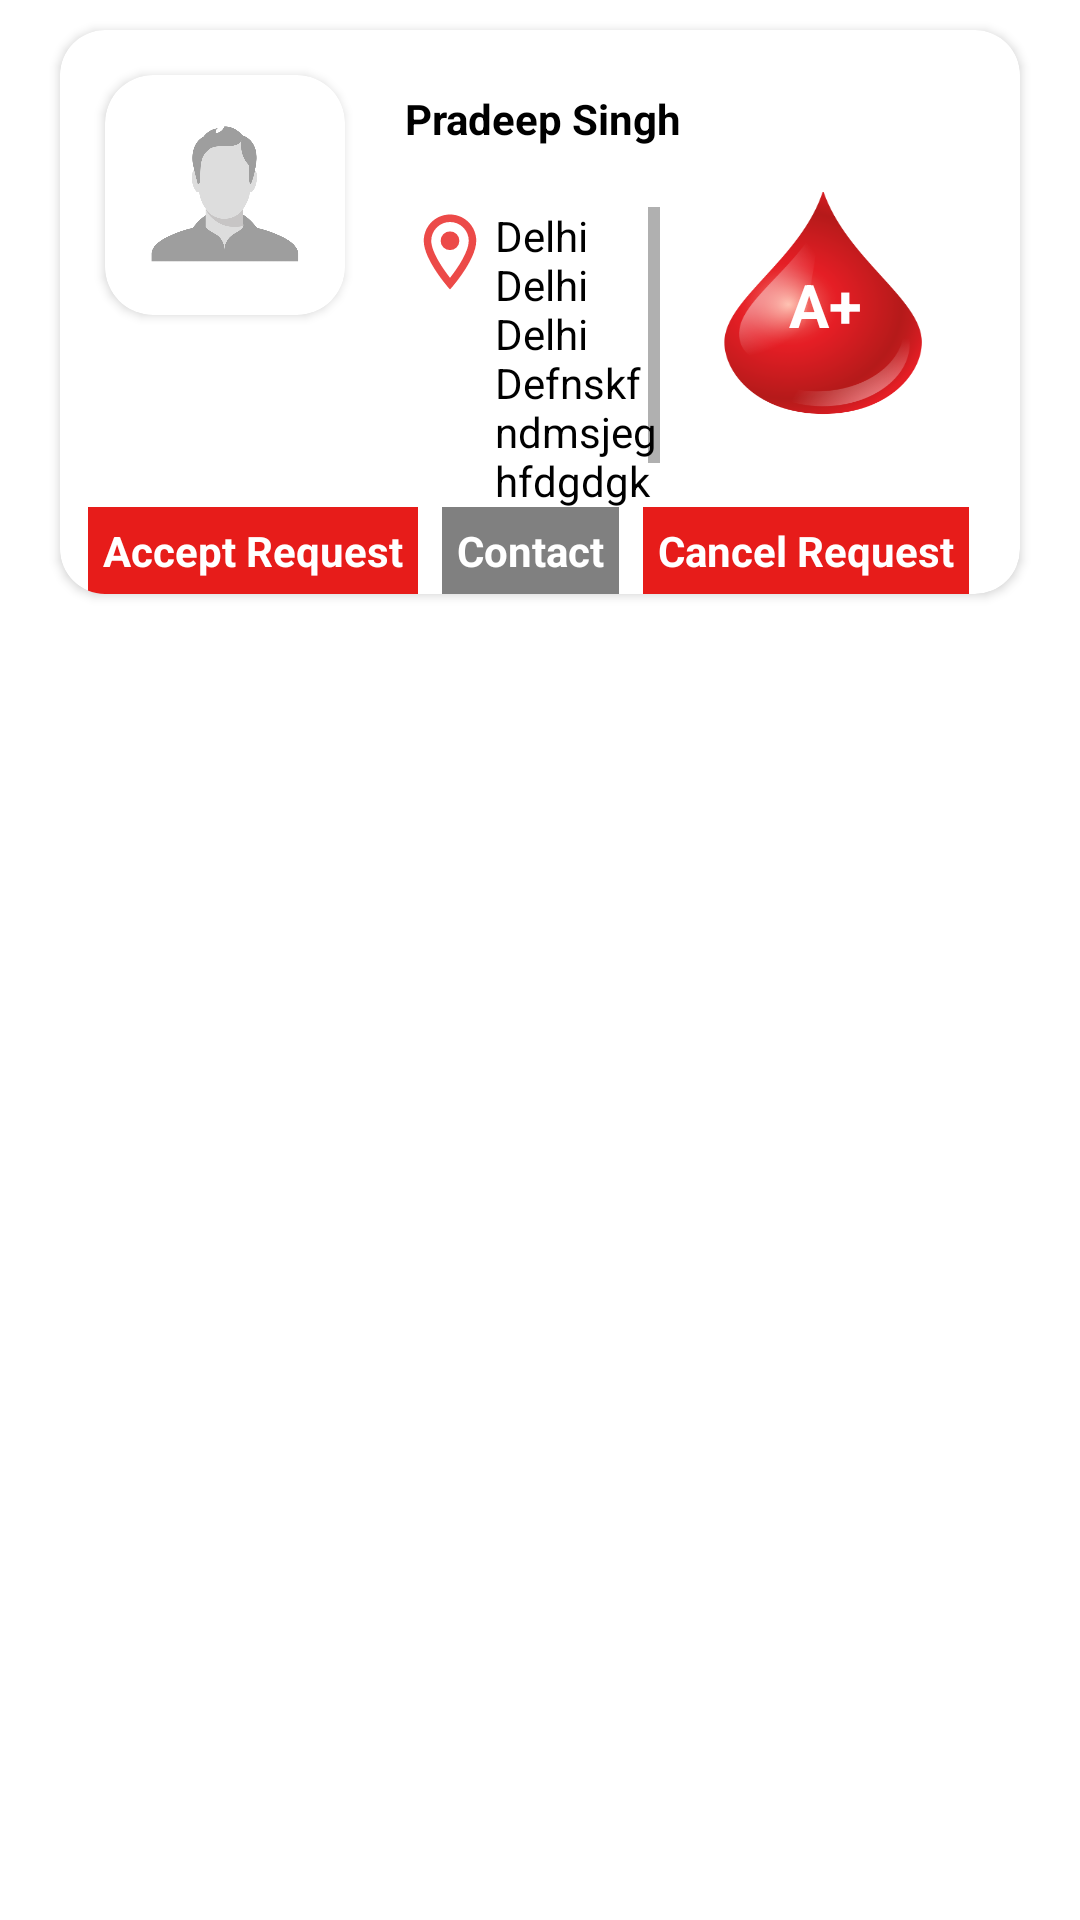

Icon bounding boxes for this 1080w x 1920h phone screenshot, format (x1, y1, x2, y2):
location: (423, 214, 477, 289)
male: (105, 126, 298, 308)
